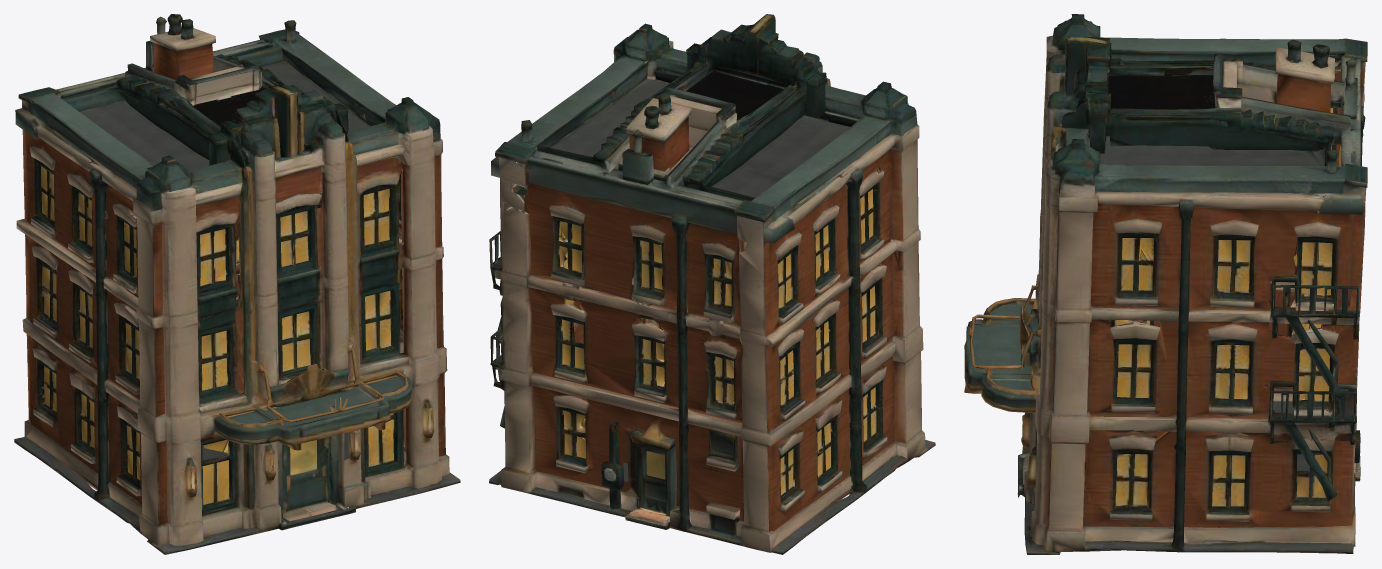
3 renders of one model, left to right at view 1: azimuth 30°, elevation 25°; view 2: azimuth 150°, elevation 25°; view 3: azimuth 270°, elevation 25°, orthographic. The views are drawn at different scales.
Visible parts, largest first — view 1: expansion__hotel_3__native_mobile; view 2: expansion__hotel_3__native_mobile; view 3: expansion__hotel_3__native_mobile.
Boxes of the visible parts, <box> form: expansion__hotel_3__native_mobile: <box>14,14,460,554</box>; expansion__hotel_3__native_mobile: <box>489,14,935,554</box>; expansion__hotel_3__native_mobile: <box>964,14,1367,554</box>.
Size of the model in its own units: 0.7536 by 1 by 0.8276.
1 material, 1 textured.
